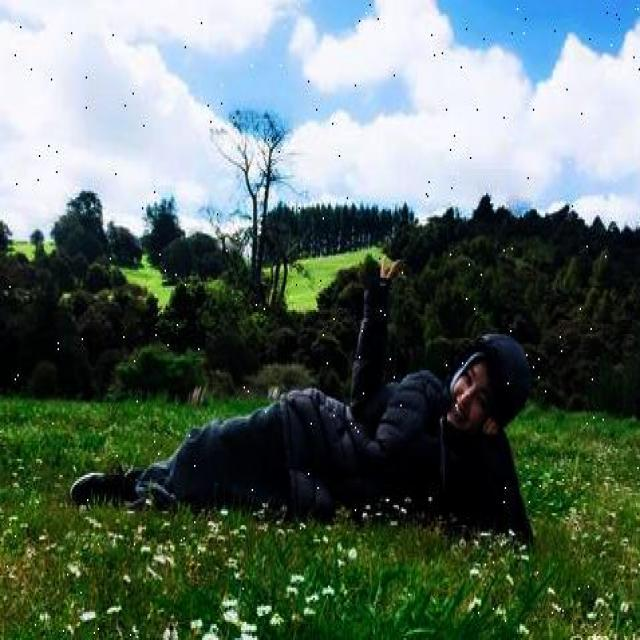fall: (82, 290, 534, 523)
